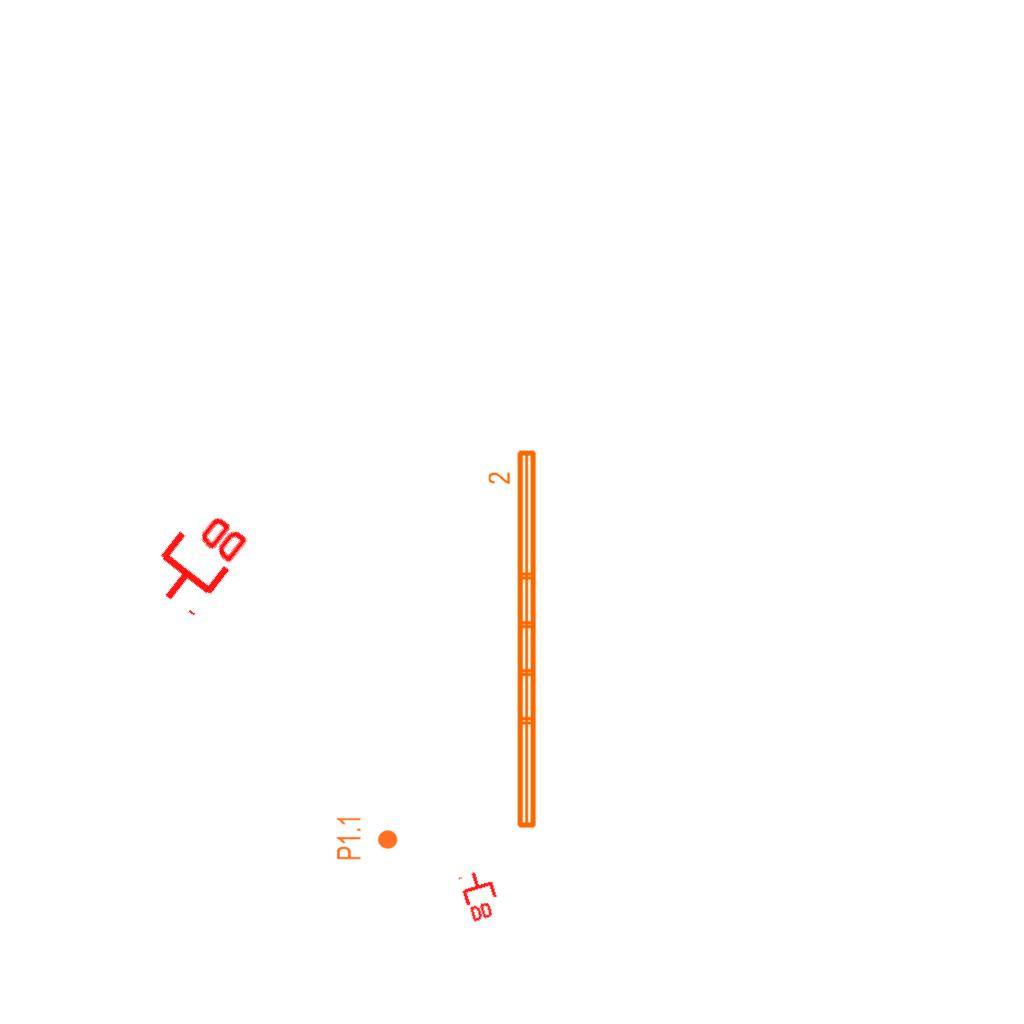Ambulanz_Pendelleuchte_LED: (486, 446, 542, 833)
Datenanschluss_zweifach: (137, 496, 256, 621), (457, 866, 505, 925)
Downlight_LED_Einbauleuchten_Flur: (335, 815, 399, 861)
